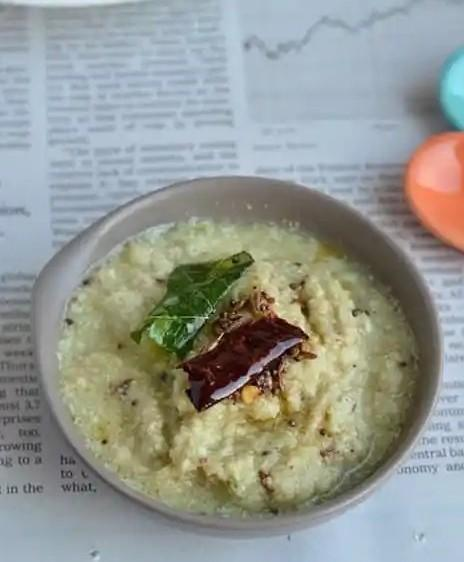CoconutChutney: (62, 219, 417, 514)
